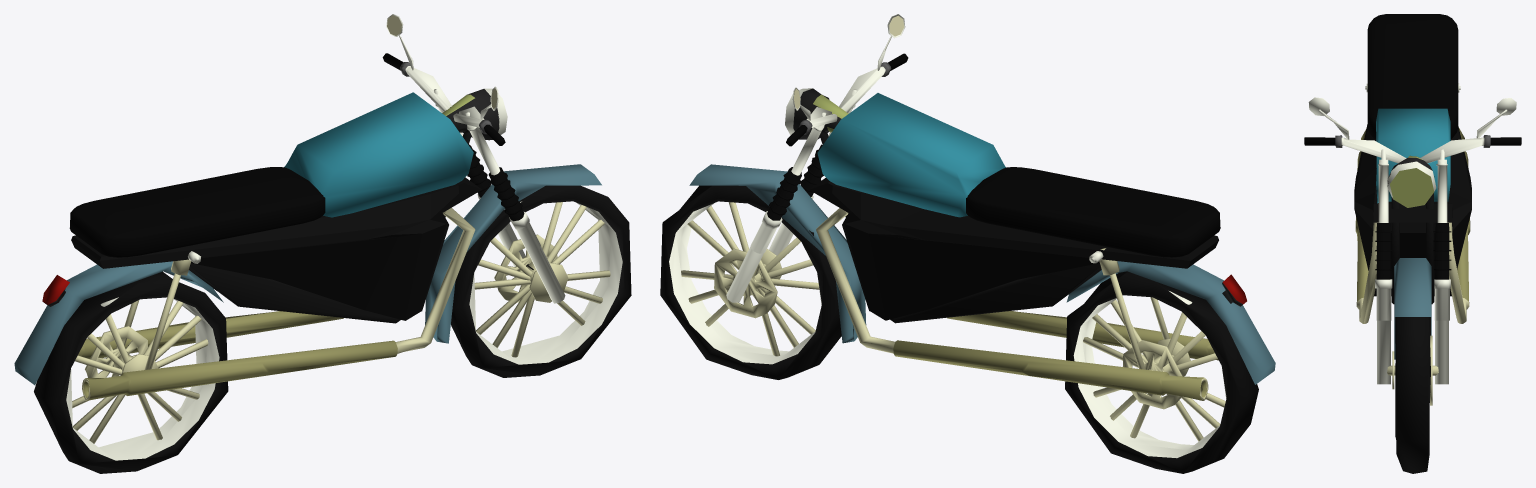
The model's file is motor.fbx.
3 renders of one model, left to right at view 1: azimuth 30°, elevation 25°; view 2: azimuth 150°, elevation 25°; view 3: azimuth 270°, elevation 25°, orthographic. The views are drawn at different scales.
Parts seen in each view (by area): view 1: Cube, Front_wheel.001, Front_wheel, Cube.001, tank, exhaust, back_water, Front_water, frame, front_bumper, steering, frontWheelShaft (+3 smaller); view 2: Cube, Front_wheel.001, Front_wheel, Cube.001, tank, exhaust, Front_water, back_water, frame, front_bumper, frontWheelShaft, frontWheelShaft.001 (+3 smaller); view 3: Cube.001, front_bumper, Cube, Front_wheel, tank, exhaust, Front_water, steering, Headlight.001, frame, mirrors, Headlight (+1 smaller).
Boxes of the visible parts, x1,y1,x2,y2 form: Cube: (71,177,481,320); Front_wheel.001: (34,271,228,473); Front_wheel: (451,185,631,377); Cube.001: (69,167,325,257); tank: (284,92,473,217); exhaust: (78,208,475,400); back_water: (14,261,223,385); Front_water: (425,164,601,343); frame: (189,130,471,323); front_bumper: (434,89,565,303); steering: (382,53,505,145); frontWheelShaft: (494,234,568,302); Cube: (809,178,1218,320); Front_wheel.001: (1065,271,1258,473); Front_wheel: (660,185,841,379); Cube.001: (966,167,1220,257); tank: (817,93,1005,217); exhaust: (816,208,1218,400); Front_water: (689,164,866,343); back_water: (1066,261,1275,384); frame: (819,130,1101,323); front_bumper: (726,89,857,302); frontWheelShaft: (714,248,781,318); frontWheelShaft.001: (1123,338,1190,409); Cube.001: (1367,14,1458,139); front_bumper: (1375,149,1451,384); Cube: (1354,124,1471,296); Front_wheel: (1395,317,1430,473); tank: (1376,108,1450,203); exhaust: (1355,127,1470,323); Front_water: (1394,258,1431,359); steering: (1304,135,1521,163); Headlight.001: (1390,168,1434,207); frame: (1391,176,1434,304); mirrors: (1308,97,1516,139); Headlight: (1387,155,1436,198).
Size of the model in its own units: 727 by 400 by 243.
